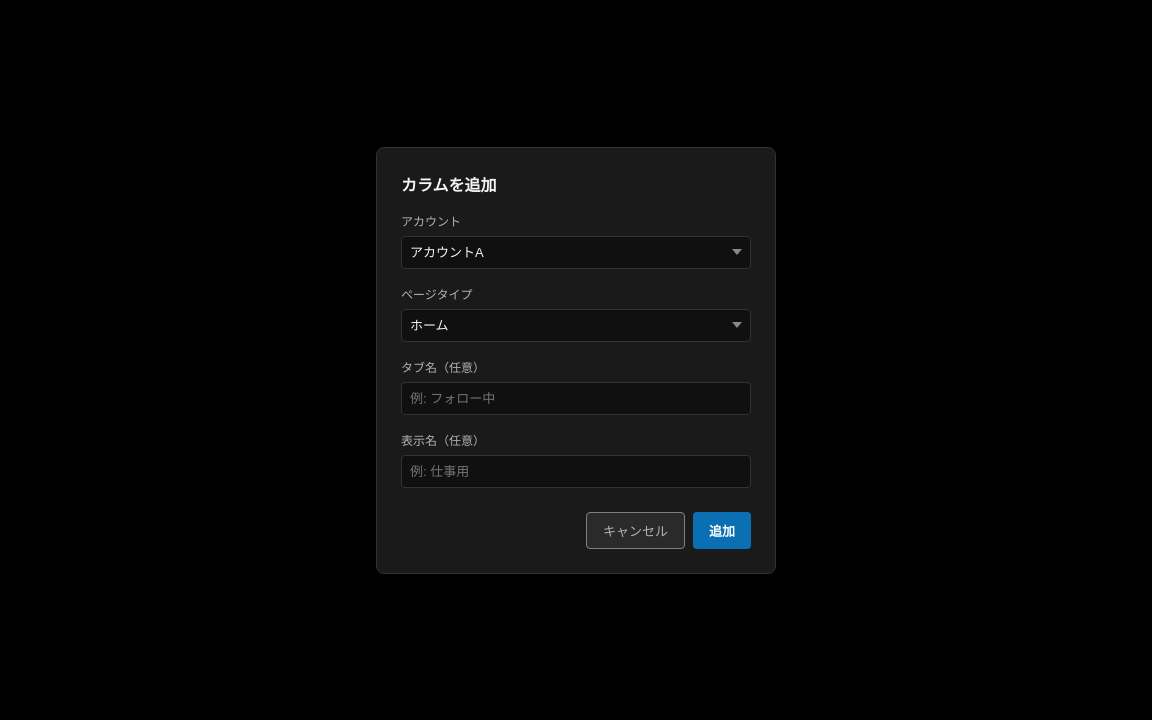
Scenario: AddColumnDialog › 外部urlを選択するとurl入力欄が表示される
Step 1. Select "外部URL（アカウント非依存）" in the dropdown labelled "ページタイプ" → {"x": 576, "y": 325}, box [401,308,751,342]
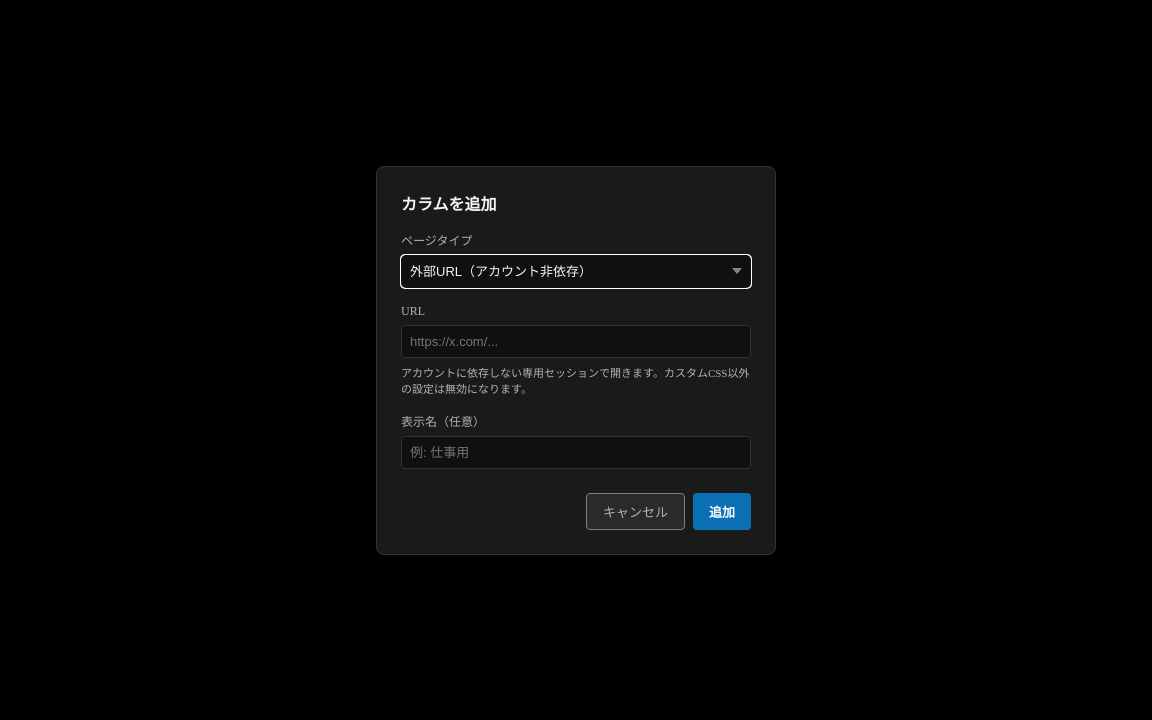
Expected: the field labelled "URL" is shown, [401,324,751,358]
